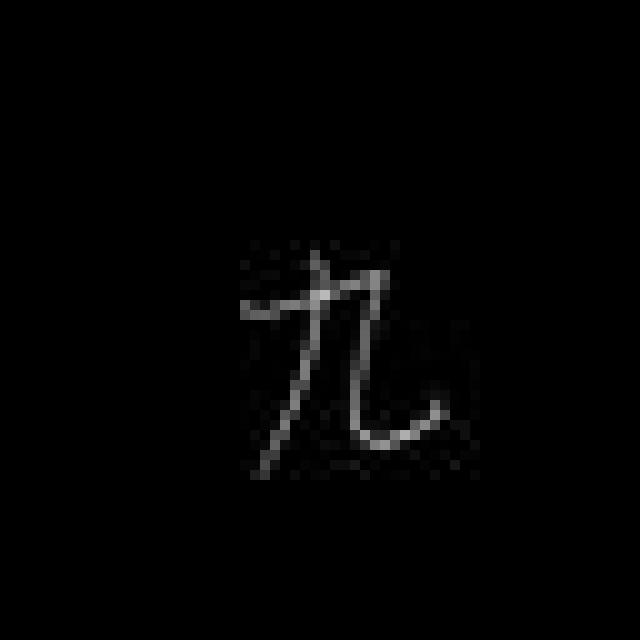9 -nine-: (230, 247, 453, 472)
